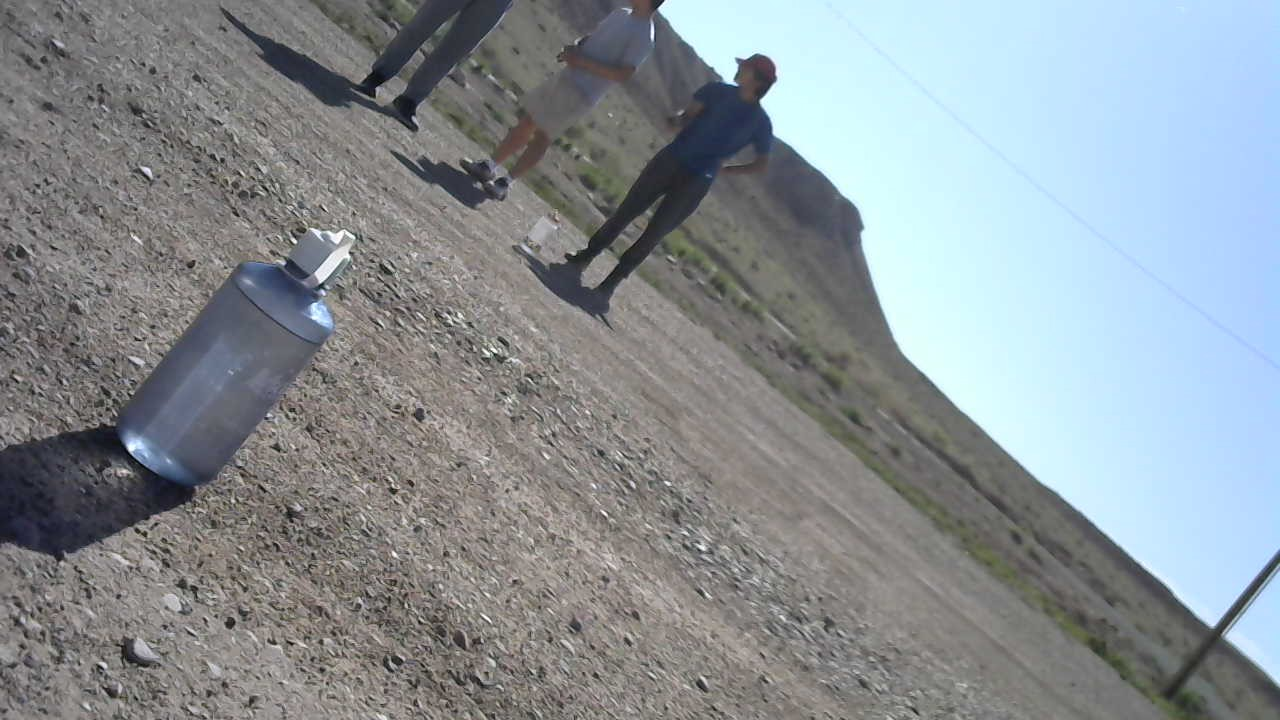bottle: (109, 226, 364, 490), (514, 209, 566, 262)
